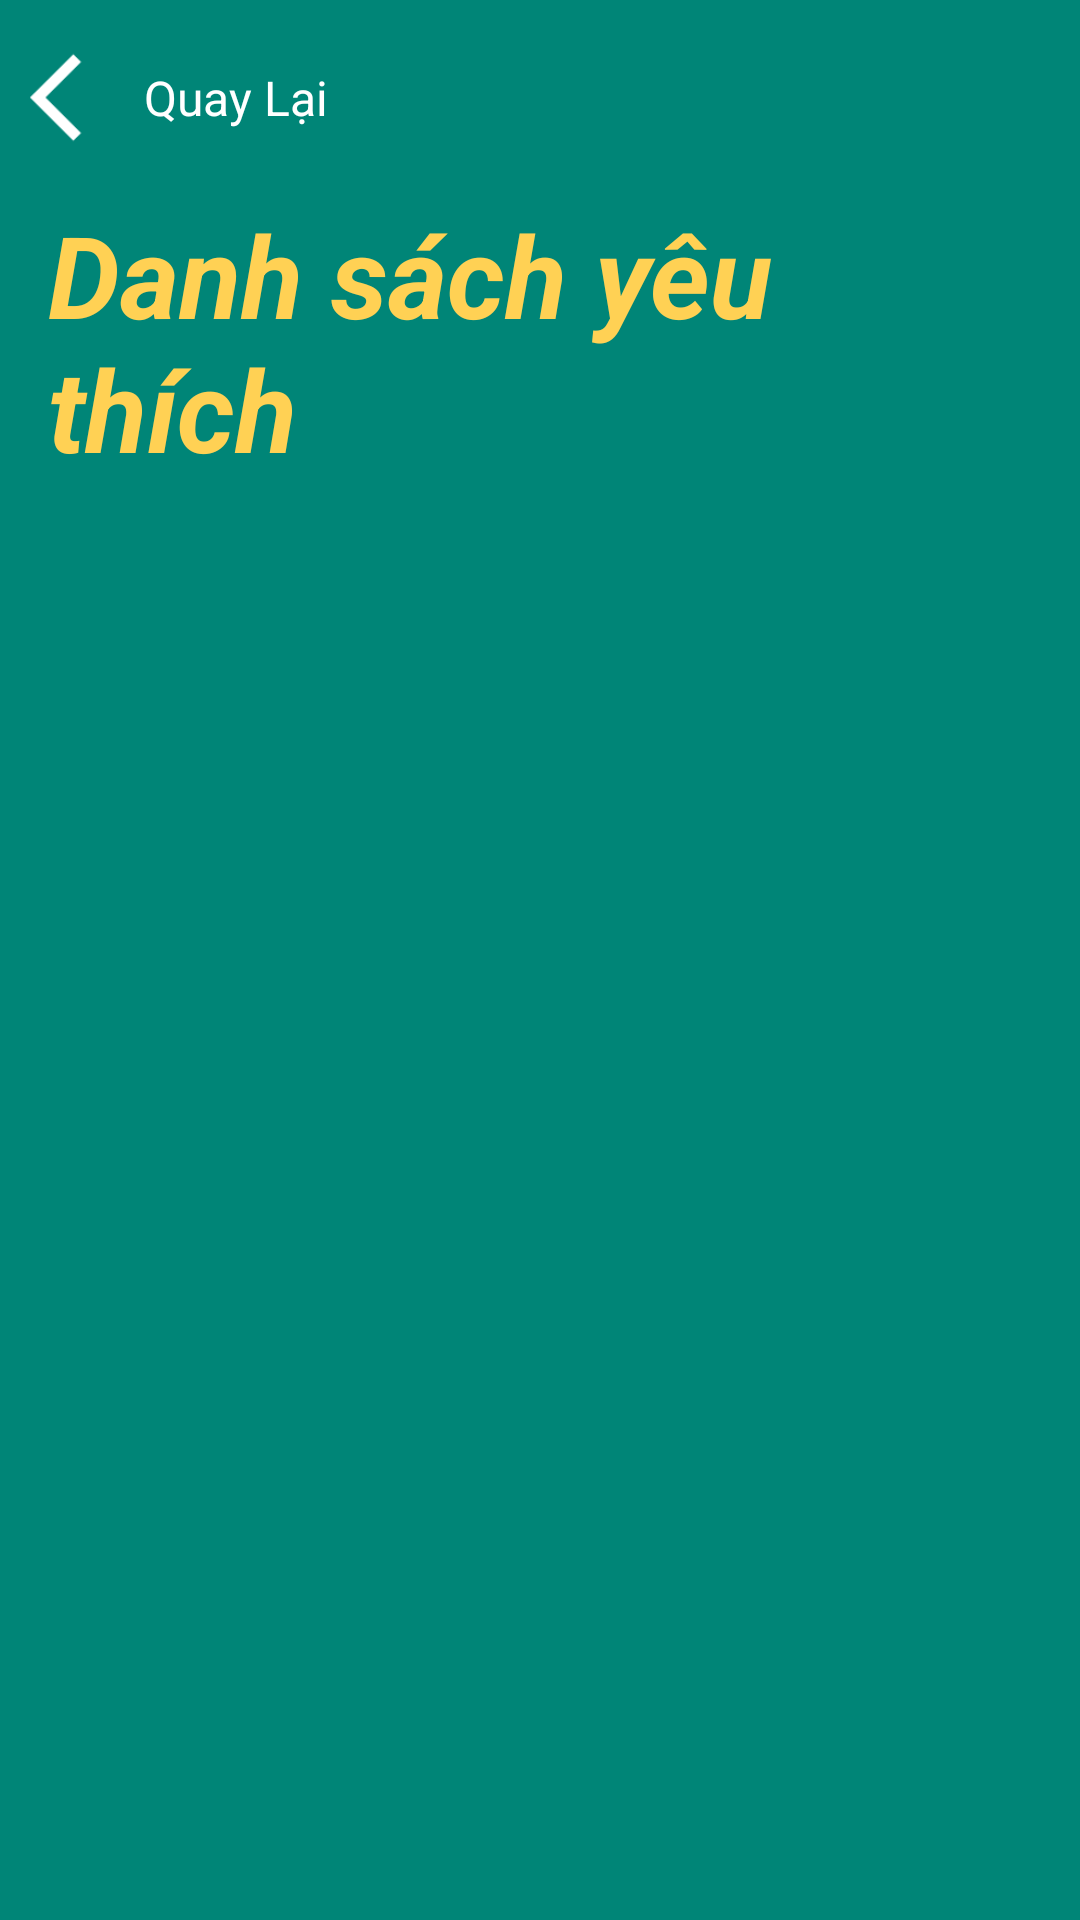

Icons on this 1080x1920 Android screen, each with its box as (x1, y1, x2, y2):
back: (30, 54, 82, 141)
